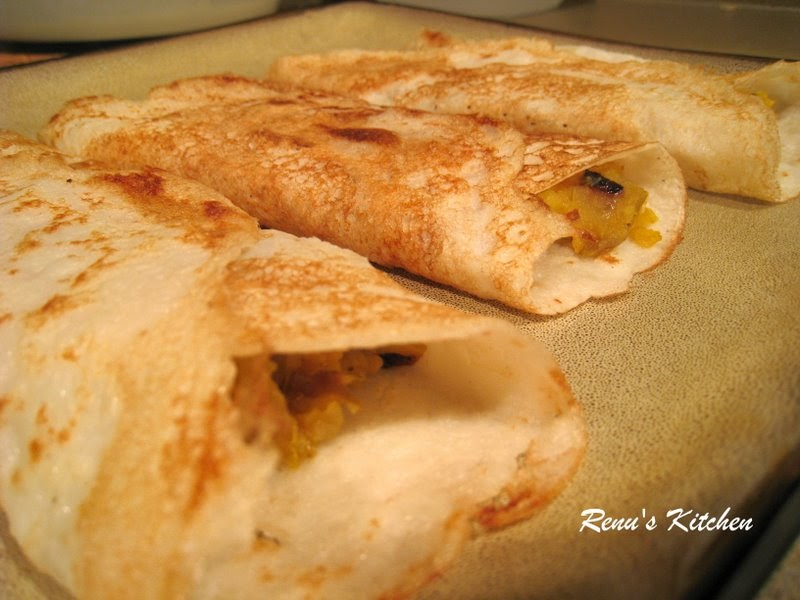dosa: (4, 29, 800, 587)
